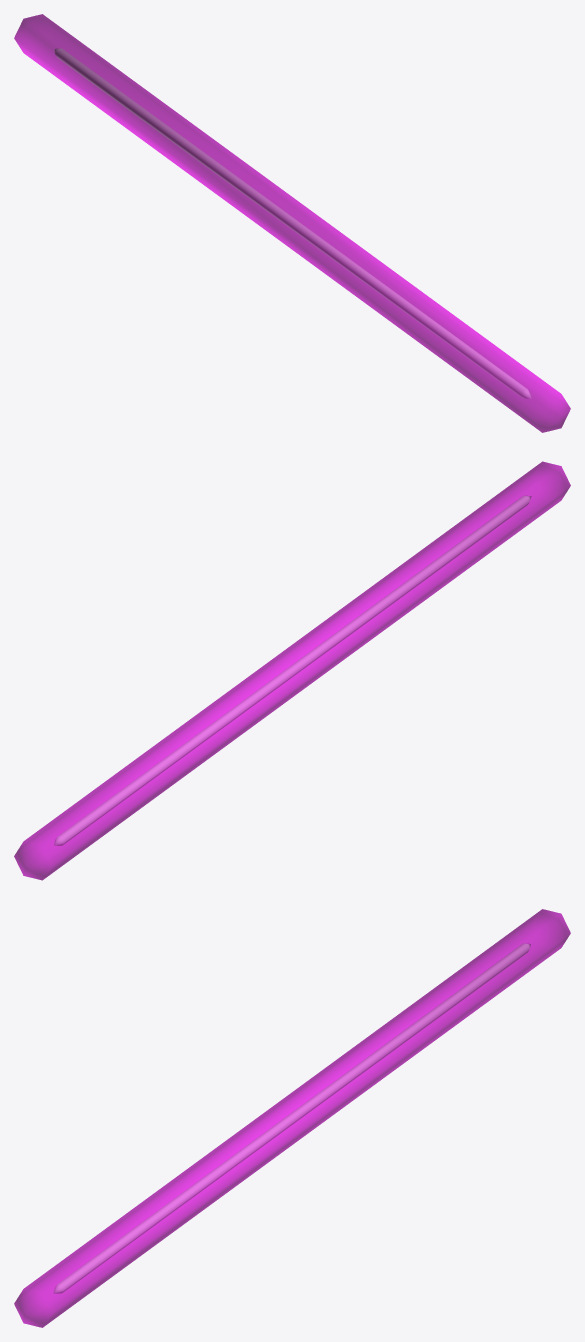
Rendered from magenta_laser_model.fbx.
3 renders of one model, top to bottom at view 1: azimuth 30°, elevation 25°; view 2: azimuth 150°, elevation 25°; view 3: azimuth 330°, elevation 25°, orthographic.
Parts seen in each view (by area): view 1: glow, bolt; view 2: glow, bolt; view 3: glow, bolt.
Part boxes in pixels (x1,y1,x2,y2): glow: (14,14,570,432); bolt: (54,48,531,398); glow: (14,461,570,880); bolt: (54,495,531,845); glow: (14,909,570,1327); bolt: (53,943,530,1293).
Bounding box in the file's own units: 3.15 × 2.73 × 76.43.
